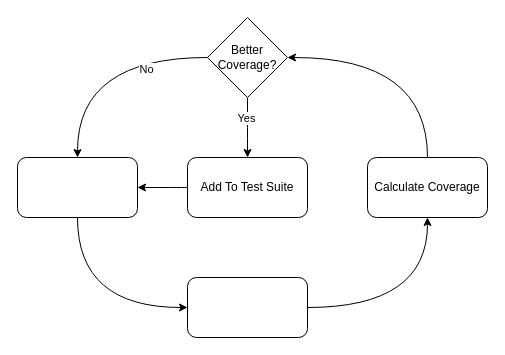
Image size: 505x355. Some labels were removed from this diagram. Here are the shapes that lost their labels. From the top down, the centre of each, then its label:
At (77,187): "Generate a Test".
At (247,307): "Run Test".
